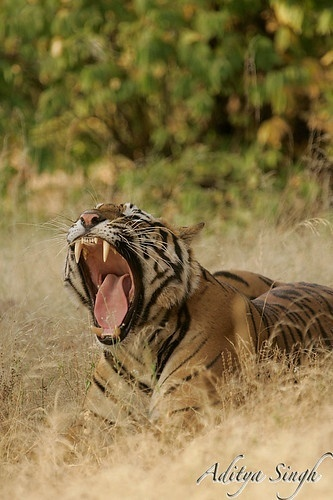tigre: (53, 200, 332, 441)
